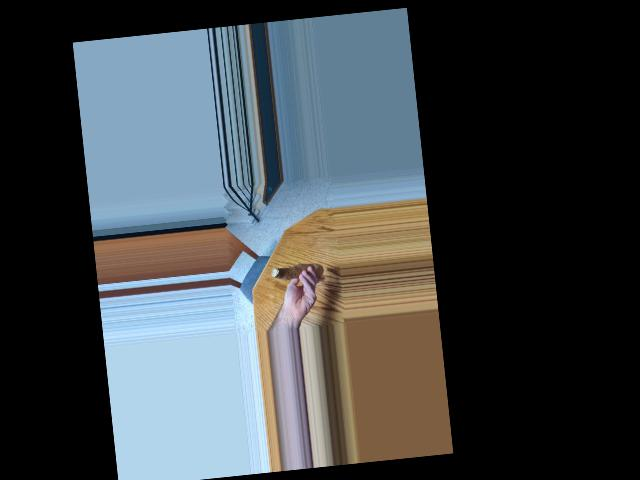sweet_potato: (274, 257, 321, 284)
